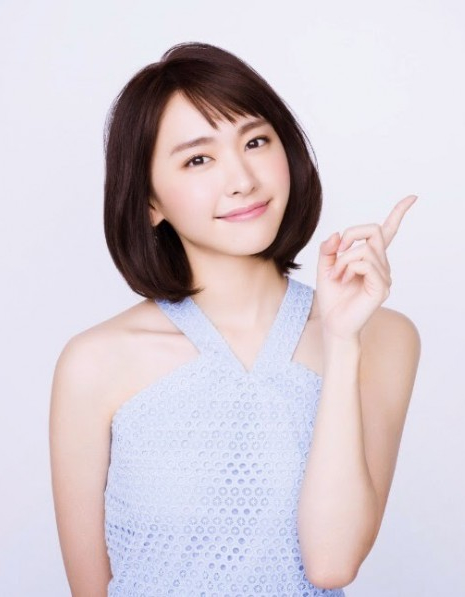person: (43, 41, 430, 597)
